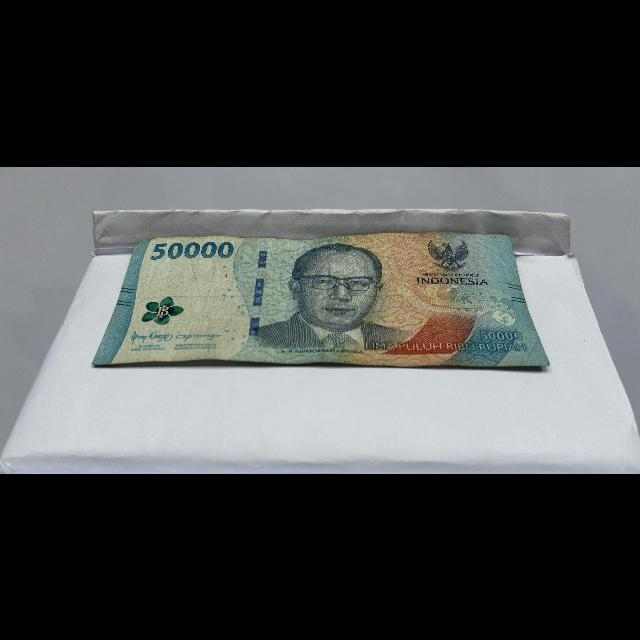Asli-50k: (88, 230, 554, 370)
Tinta-Asli-50k: (141, 295, 188, 326)
